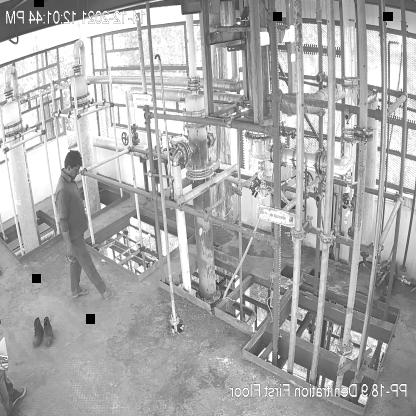no_shoes: (71, 288, 89, 300), (101, 287, 115, 302)
